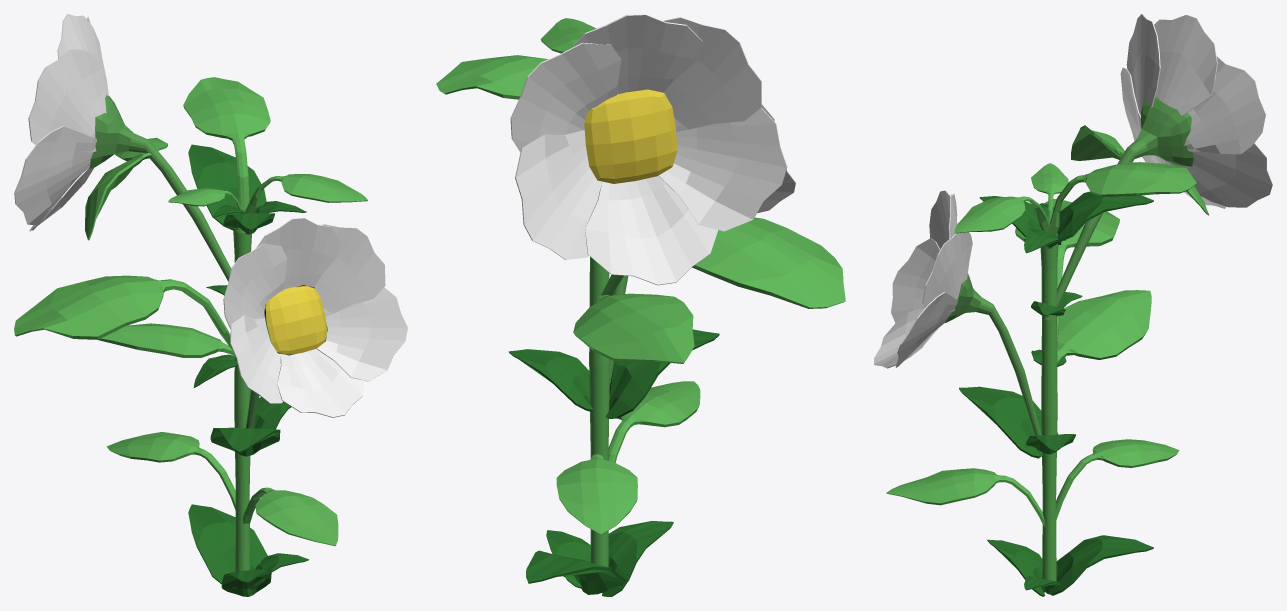
Rendered from flor3.fbx.
3 renders of one model, left to right at view 1: azimuth 30°, elevation 25°; view 2: azimuth 150°, elevation 25°; view 3: azimuth 270°, elevation 25°, orthographic. The views are drawn at different scales.
Parts seen in each view (by area): view 1: Cube.007, Cube.006, Plane.015, Plane.027, Plane.022, Plane.008, Plane.016, Cylinder.001, Plane.029, Plane.014, Plane.019, Plane.031 (+4 smaller); view 2: Cube.006, Plane.015, Plane.016, Plane.022, Plane.019, Plane.014, Cylinder.001, Plane.027, Plane.008, Plane.031, Cube.007; view 3: Cube.006, Cube.007, Plane.016, Cylinder.001, Plane.022, Plane.027, Plane.019, Plane.008, Plane.014, Plane.031, Plane.029, Plane.015 (+5 smaller).
Boxes of the visible parts, x1,y1,x2,y2 form: Cube.007: [223, 218, 407, 428]; Cube.006: [14, 14, 231, 281]; Plane.015: [14, 275, 233, 351]; Plane.027: [183, 77, 270, 211]; Plane.022: [188, 504, 308, 596]; Plane.008: [243, 487, 338, 545]; Plane.016: [98, 323, 235, 357]; Cylinder.001: [233, 227, 251, 571]; Plane.029: [188, 144, 266, 230]; Plane.014: [106, 432, 235, 509]; Plane.019: [210, 397, 291, 456]; Plane.031: [245, 174, 367, 213]; Cube.006: [510, 14, 787, 285]; Plane.015: [601, 217, 845, 308]; Plane.016: [573, 293, 694, 363]; Plane.022: [526, 521, 673, 596]; Plane.019: [508, 329, 719, 418]; Plane.014: [556, 454, 637, 534]; Cylinder.001: [589, 257, 610, 566]; Plane.027: [436, 55, 548, 99]; Plane.008: [608, 381, 700, 462]; Plane.031: [540, 18, 596, 53]; Cube.007: [609, 104, 795, 392]; Cube.006: [1045, 14, 1272, 321]; Cube.007: [874, 190, 1041, 451]; Plane.016: [1057, 290, 1151, 364]; Cylinder.001: [1040, 233, 1058, 581]; Plane.022: [987, 535, 1153, 596]; Plane.027: [1049, 162, 1196, 234]; Plane.019: [959, 386, 1075, 458]; Plane.008: [886, 468, 1045, 527]; Plane.014: [1054, 439, 1179, 521]; Plane.031: [954, 196, 1050, 233]; Plane.029: [1046, 191, 1153, 248]; Plane.015: [1015, 198, 1119, 346].
Bounding box in the file's own units: 1074 × 1865 × 1275.
3 materials, 1 textured.
